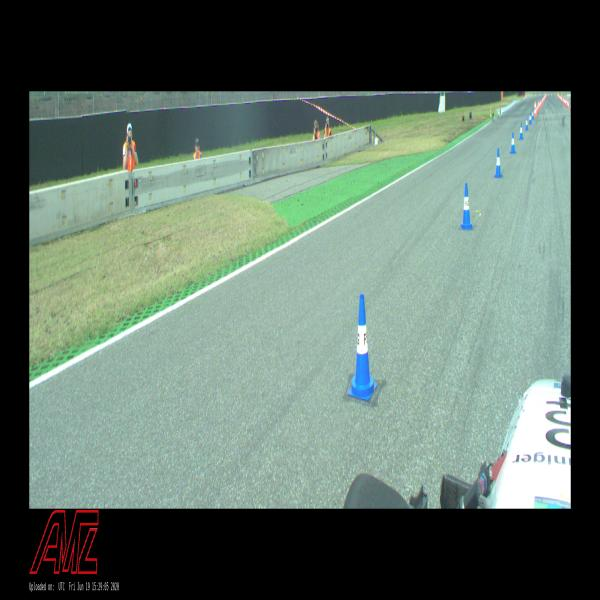blue_cone: (348, 294, 377, 401), (460, 183, 472, 230), (495, 149, 501, 177), (510, 133, 516, 153), (519, 123, 523, 140), (525, 117, 528, 130), (529, 113, 531, 124), (532, 110, 534, 120)
large_orange_cone: (534, 101, 537, 117)
